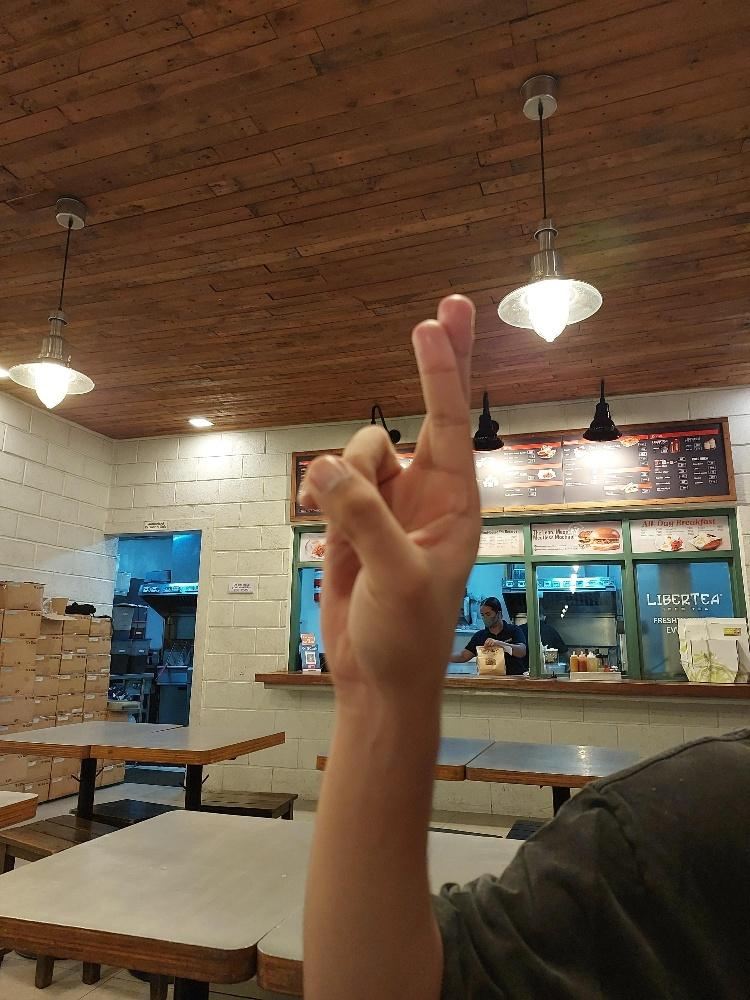r: (296, 291, 486, 688)
